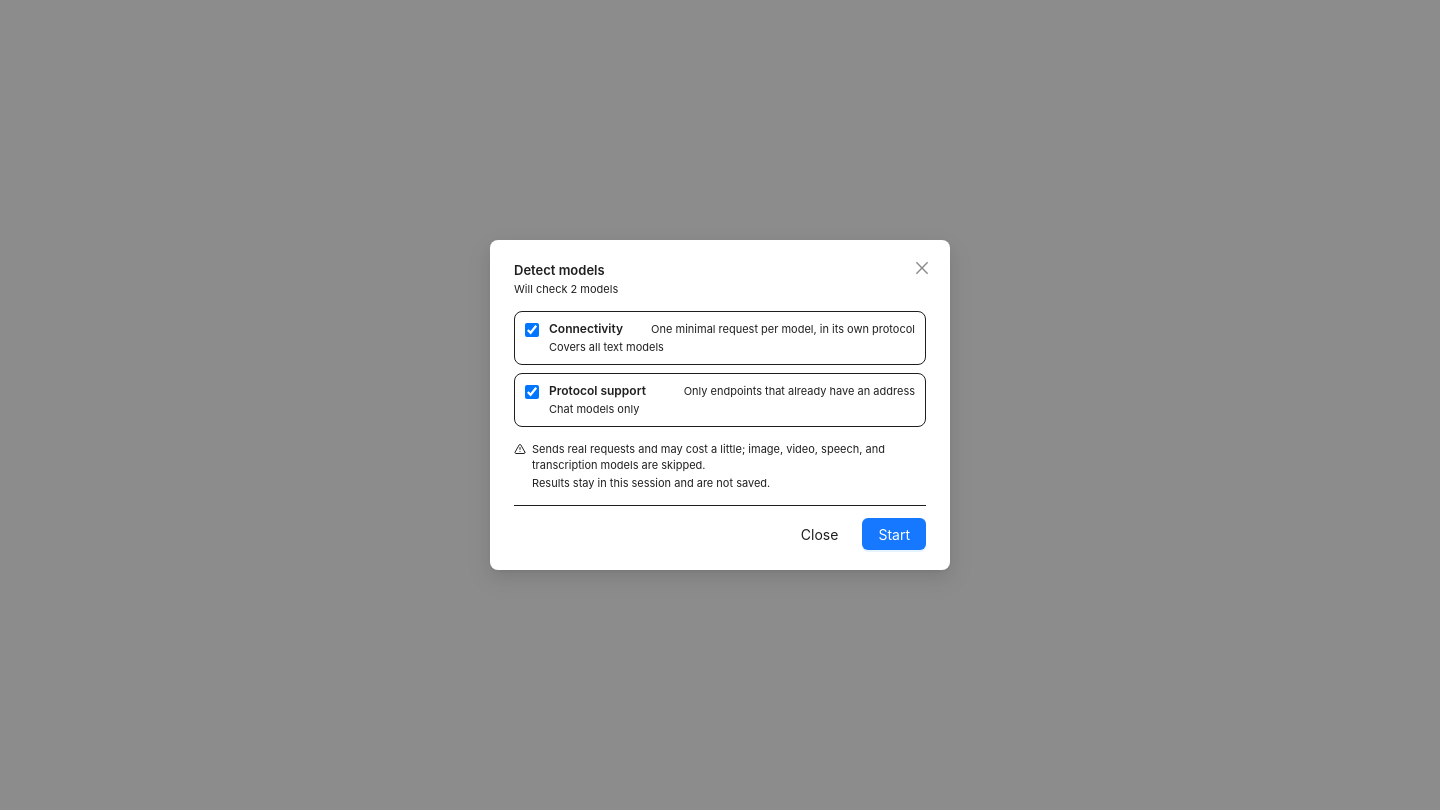
PLAT-82 检测模型对话框（可多选 + 进度 + 停止） › keeps the "select at least one" hint out of every reachable state
The image size is (1440, 810).
Click the checkbox named "Protocol support" at (532, 392), box [525, 385, 539, 399]
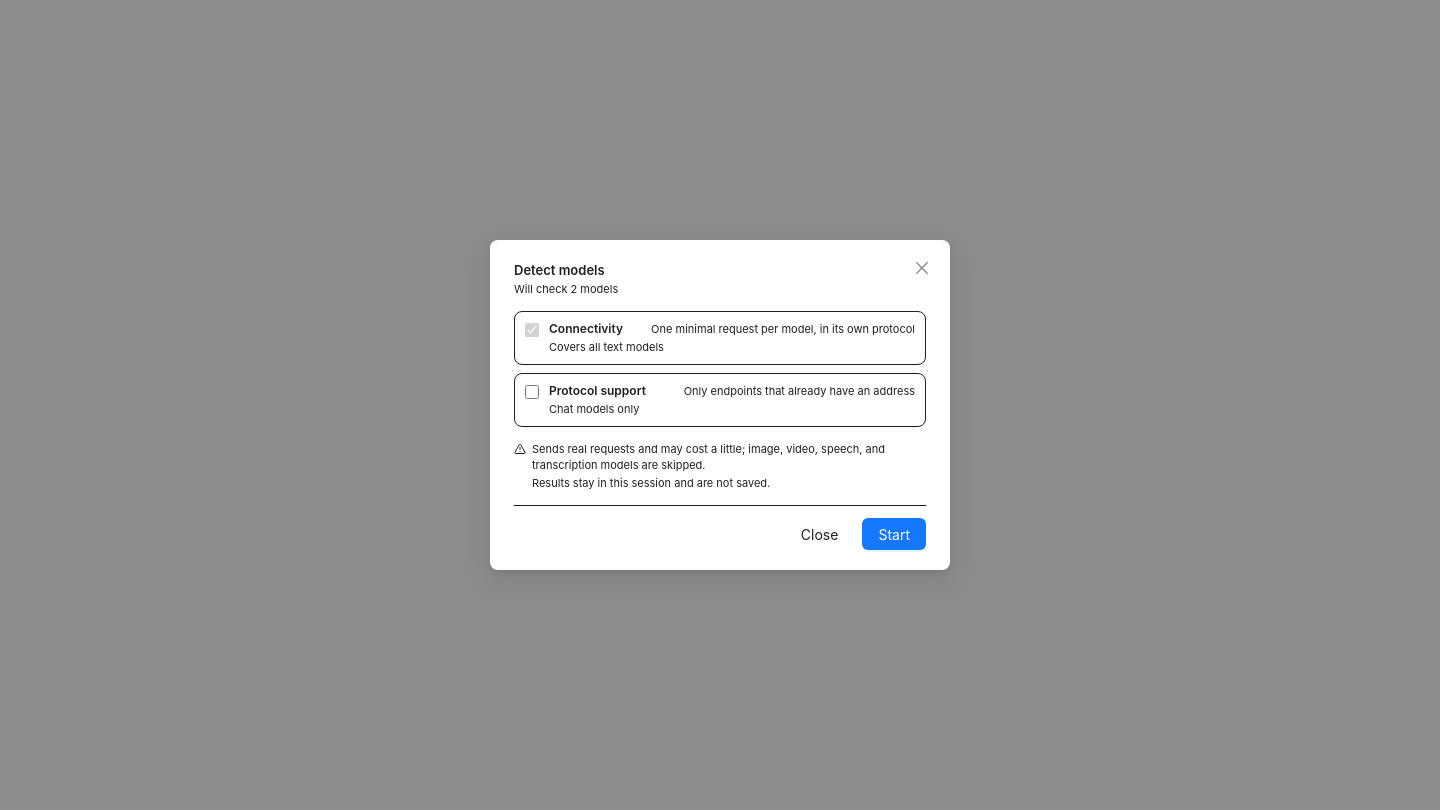
Result: the checkbox named "Connectivity" is disabled at [525, 323, 539, 337]
